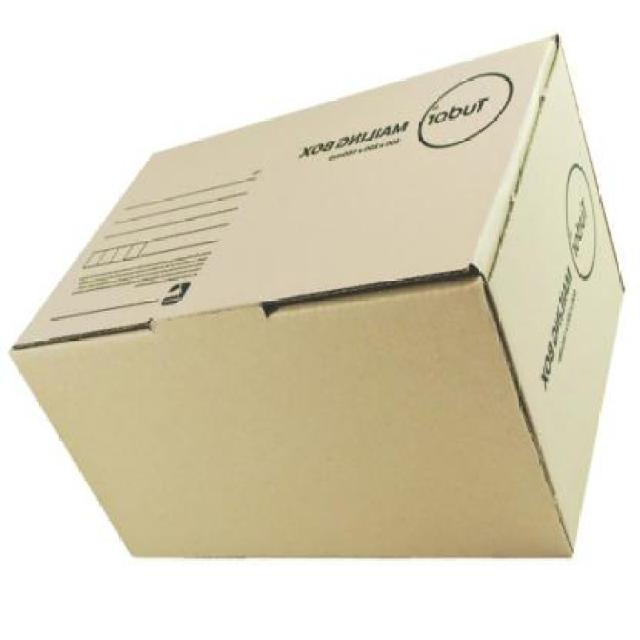cardboxes: (11, 38, 622, 554)
